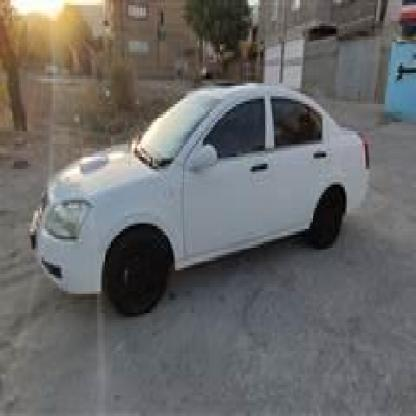Car: (24, 81, 373, 317)
